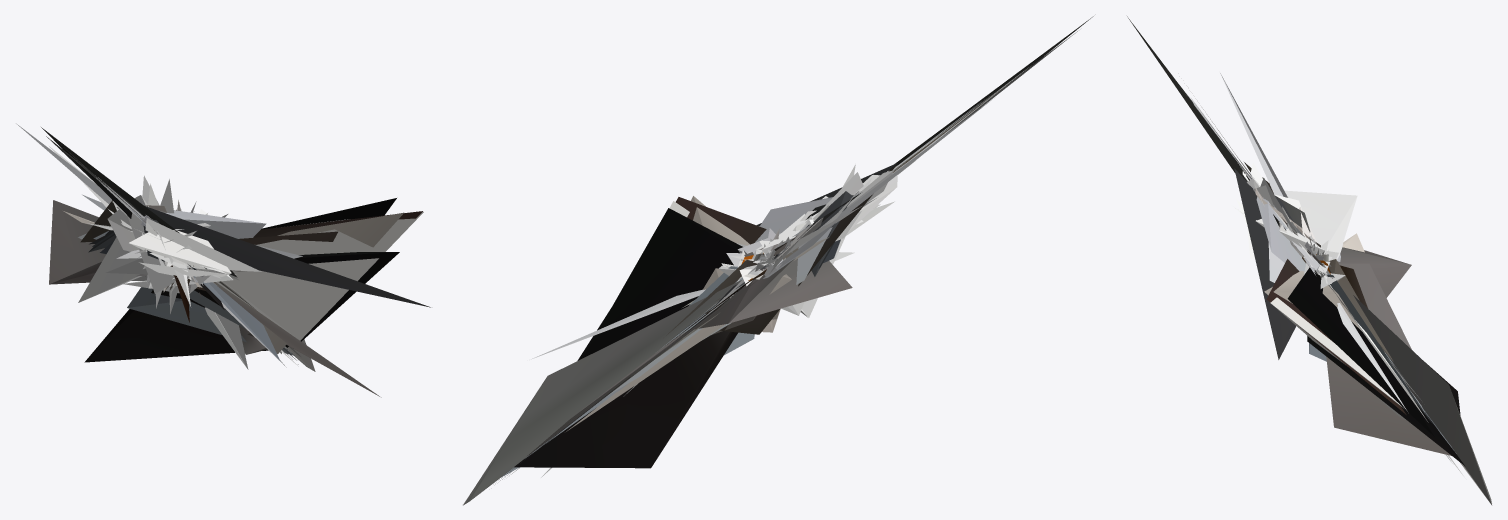
The model's file is crate_cleaned_22k.glb.
3 views of the same model, side by side, from view 1: azimuth 30°, elevation 25°; view 2: azimuth 150°, elevation 25°; view 3: azimuth 270°, elevation 25° (orthographic). The views are drawn at different scales.
Visible parts, largest first — view 1: Mesh_0; view 2: Mesh_0; view 3: Mesh_0.
Part boxes in pixels (<box>): Mesh_0: <box>16,123,430,397</box>; Mesh_0: <box>463,16,1093,505</box>; Mesh_0: <box>1127,16,1492,505</box>.
Bounding box in the file's own units: 389 × 388 × 386.
1 material, 1 textured.
